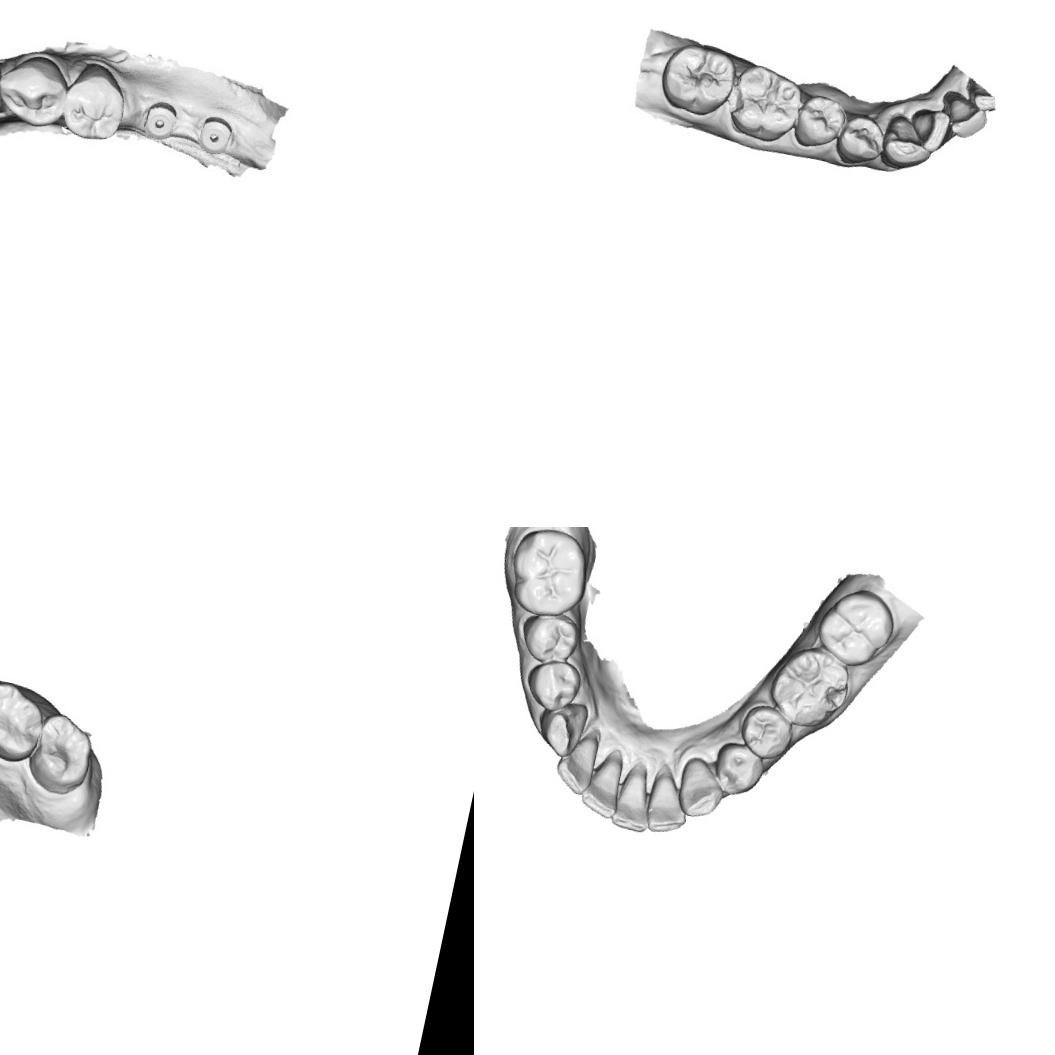canine: (672, 752, 730, 822), (877, 112, 938, 175), (532, 696, 591, 761)
implant: (142, 98, 185, 142), (196, 110, 234, 158)
incisor: (641, 760, 697, 838), (609, 756, 660, 834), (578, 746, 628, 820), (933, 88, 990, 150), (552, 728, 601, 797), (905, 105, 952, 154)
molar: (500, 527, 596, 624), (762, 638, 856, 734), (654, 36, 741, 122), (724, 60, 808, 148), (24, 708, 102, 802), (812, 581, 895, 662), (0, 674, 51, 768)
premolar: (56, 57, 133, 148), (0, 51, 71, 137), (514, 604, 585, 670), (521, 653, 586, 717), (734, 700, 798, 764), (791, 90, 851, 154), (708, 738, 768, 802), (833, 110, 889, 170)
